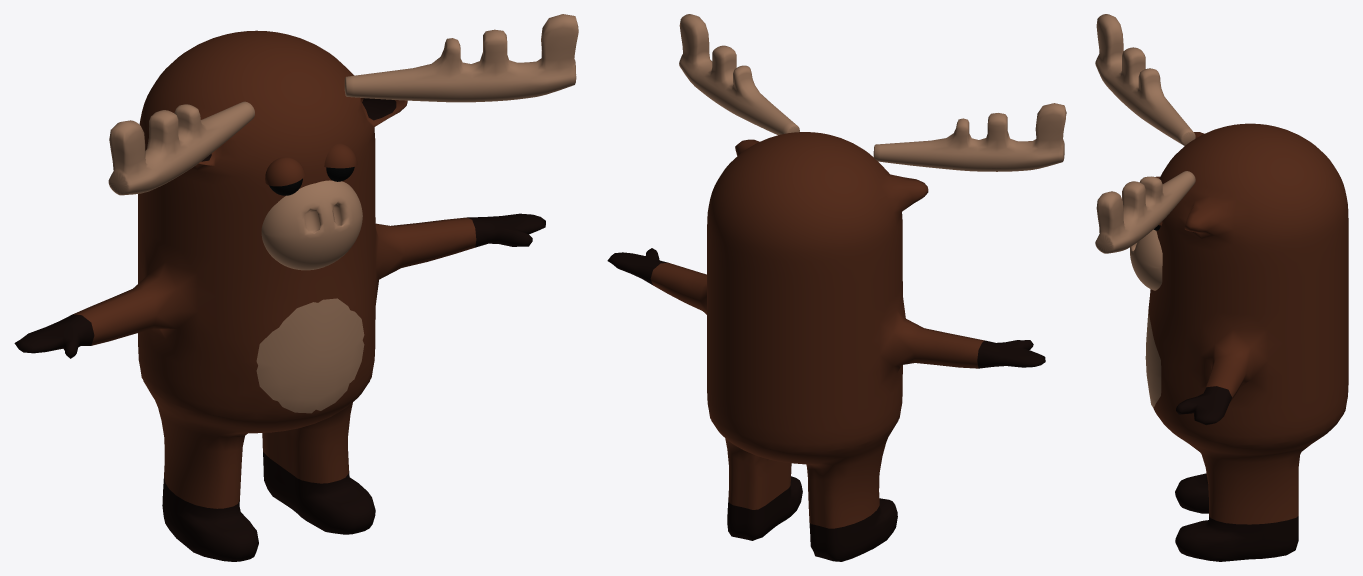
The model's file is Ennemie2.FBX.
3 renders of one model, left to right at view 1: azimuth 30°, elevation 25°; view 2: azimuth 150°, elevation 25°; view 3: azimuth 270°, elevation 25°, orthographic. The views are drawn at different scales.
Visible parts, largest first — view 1: Capsule001, Cylindre001, Cylindre002, Sphère001, Sphère003, Sphère002; view 2: Capsule001, Cylindre002, Cylindre001; view 3: Capsule001, Cylindre002, Cylindre001, Sphère001.
Part boxes in pixels (x1,y1,x2,y2): Capsule001: (14, 30, 545, 561); Cylindre001: (344, 14, 578, 102); Cylindre002: (108, 101, 254, 195); Sphère001: (261, 180, 362, 270); Sphère003: (265, 157, 305, 195); Sphère002: (324, 143, 357, 181); Capsule001: (607, 132, 1045, 561); Cylindre002: (873, 103, 1066, 171); Cylindre001: (679, 14, 799, 135); Capsule001: (1145, 123, 1348, 561); Cylindre002: (1095, 14, 1195, 145); Cylindre001: (1095, 171, 1195, 253); Sphère001: (1130, 229, 1162, 290).
Size of the model in its own units: 47.17 by 43.99 by 23.71.
